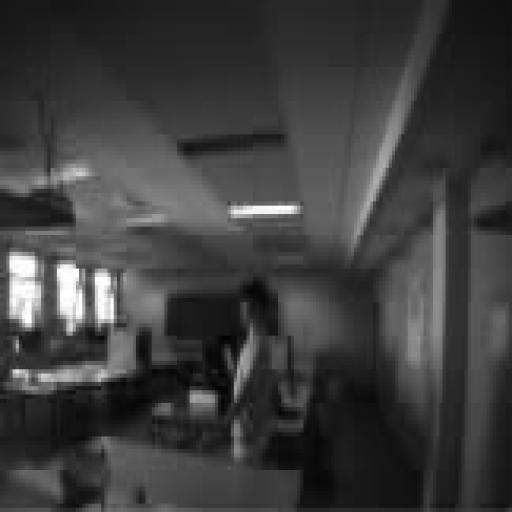human: (217, 276, 281, 467)
